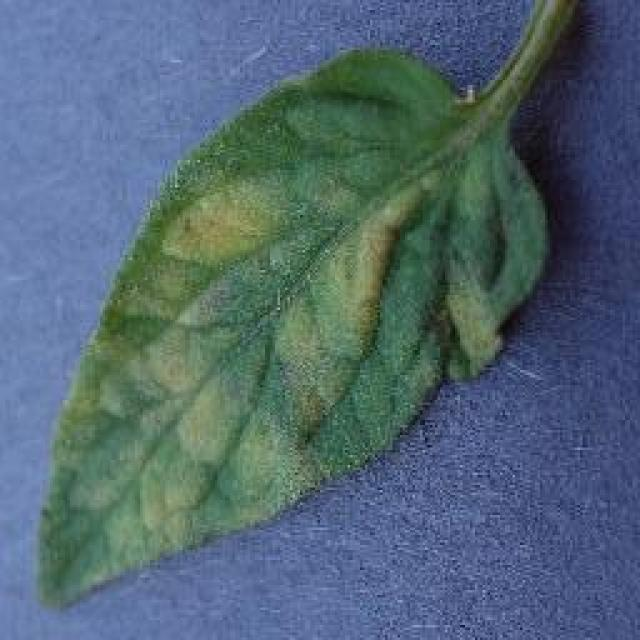Tomato mold leaf: (39, 45, 554, 607)
